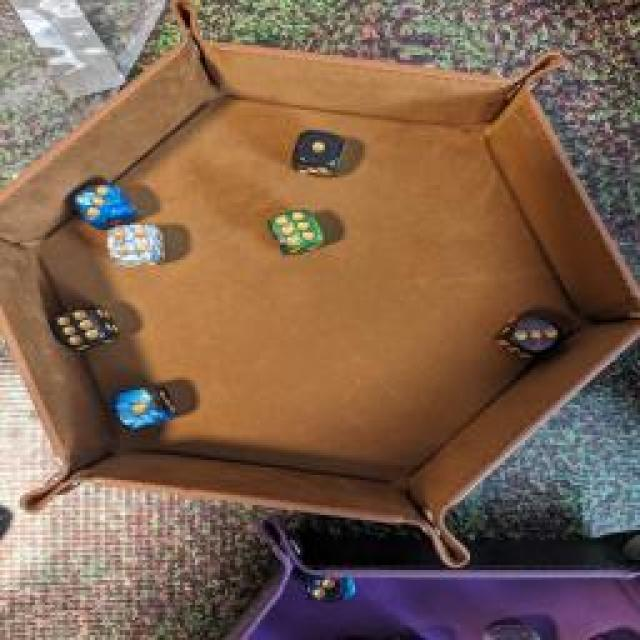dice_1: (109, 379, 179, 431), (288, 124, 348, 184)
dice_3: (494, 306, 571, 359), (72, 178, 136, 232), (301, 565, 359, 610)
dice_4: (102, 220, 170, 272)
dice_6: (48, 303, 122, 355), (261, 205, 329, 260)
